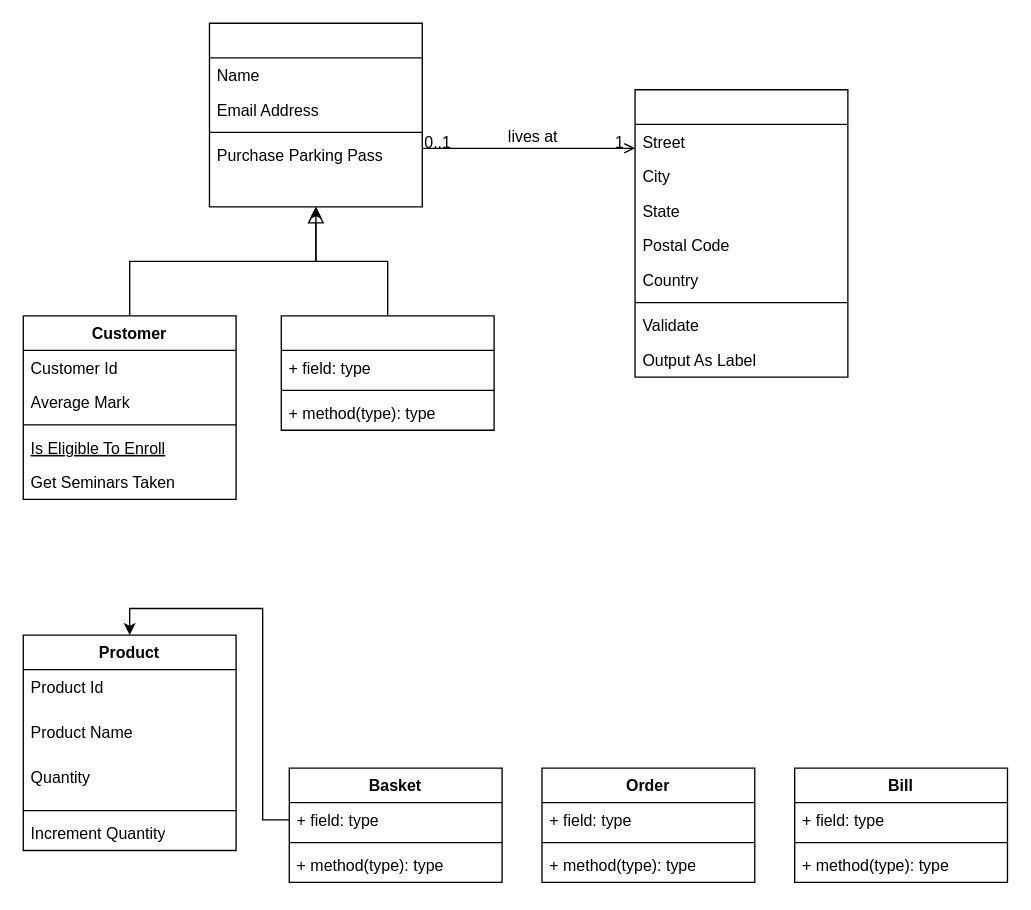
Some shapes in this 1031 by 910 pixel diagram are drawn without their labels. Each missing label, with the box of its shape:
Address: (634, 88, 848, 377)
Admin: (280, 315, 494, 430)
User: (208, 22, 422, 207)
